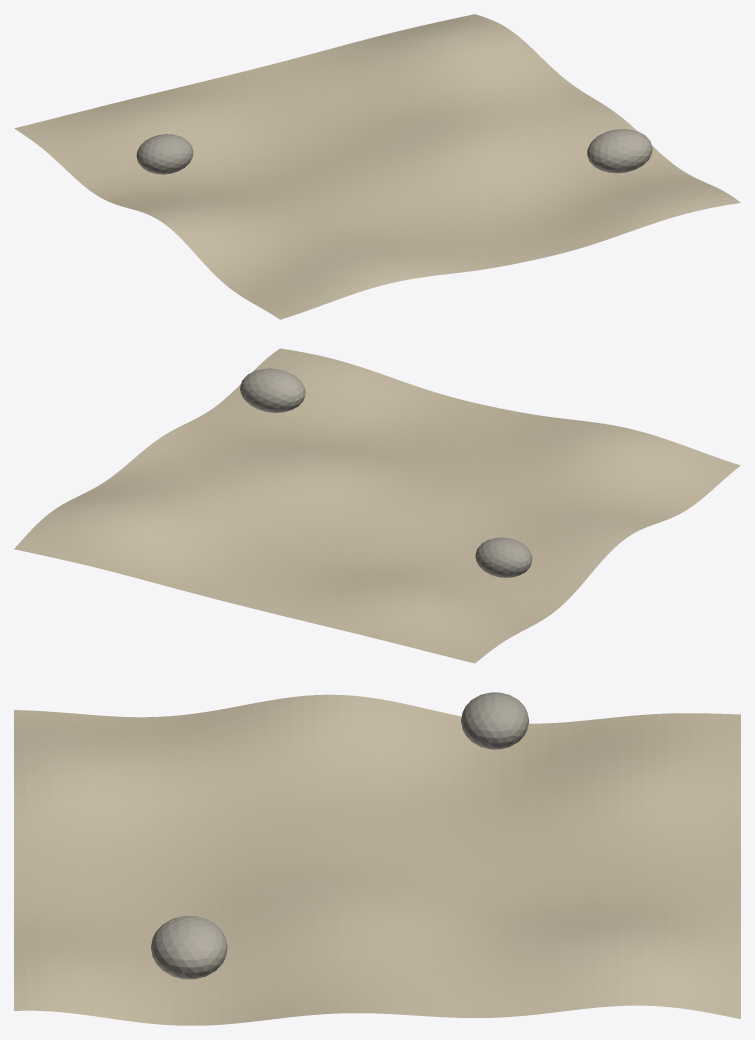
Rendered from sandy-beach.glb.
The picture shows the model from 3 angles, top to bottom: view 1: azimuth 30°, elevation 25°; view 2: azimuth 150°, elevation 25°; view 3: azimuth 270°, elevation 25°; orthographic projection. The views are drawn at different scales.
Parts seen in each view (by area): view 1: Ground, Obstacle_Beach_Rock_B, Obstacle_Beach_Rock_A; view 2: Ground, Obstacle_Beach_Rock_B, Obstacle_Beach_Rock_A; view 3: Ground, Obstacle_Beach_Rock_B, Obstacle_Beach_Rock_A.
Boxes of the visible parts, left/top/right/bottom form: Ground: left=14, top=14, right=740, bottom=319; Obstacle_Beach_Rock_B: left=587, top=129, right=652, bottom=173; Obstacle_Beach_Rock_A: left=136, top=134, right=193, bottom=174; Ground: left=14, top=348, right=740, bottom=663; Obstacle_Beach_Rock_B: left=240, top=368, right=305, bottom=412; Obstacle_Beach_Rock_A: left=475, top=537, right=532, bottom=577; Ground: left=14, top=694, right=740, bottom=1025; Obstacle_Beach_Rock_B: left=151, top=915, right=227, bottom=979; Obstacle_Beach_Rock_A: left=461, top=692, right=529, bottom=749.
Bounding box in the file's own units: 3.4 × 0.3637 × 3.4.
